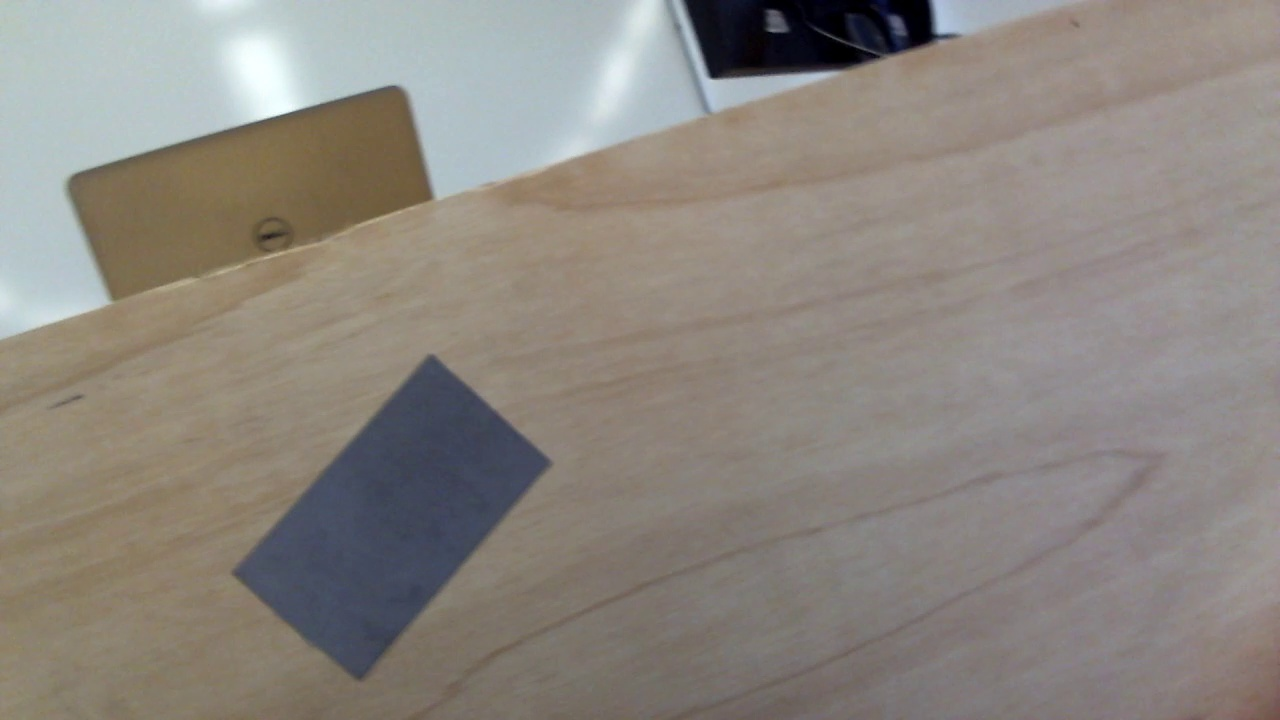Tape: (230, 357, 556, 677)
